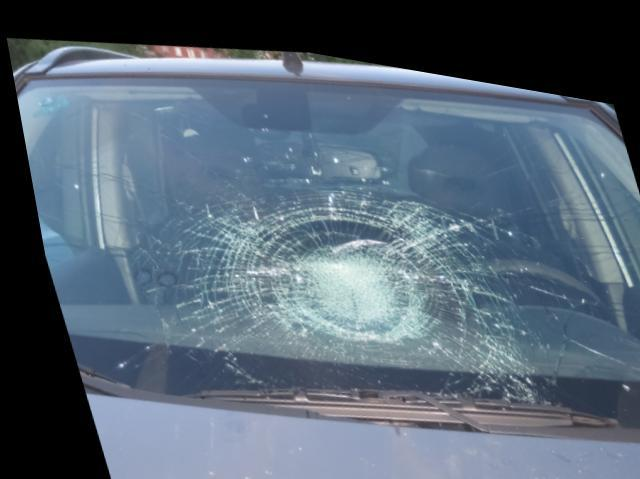glass shatter: (13, 71, 640, 408)
